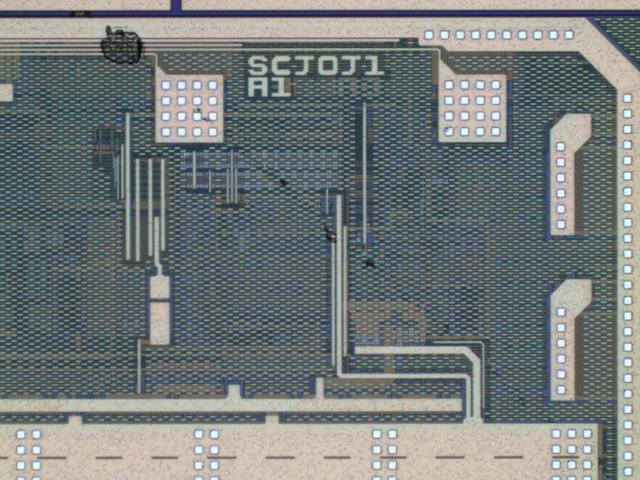SCRATCH: (69, 6, 625, 480)
